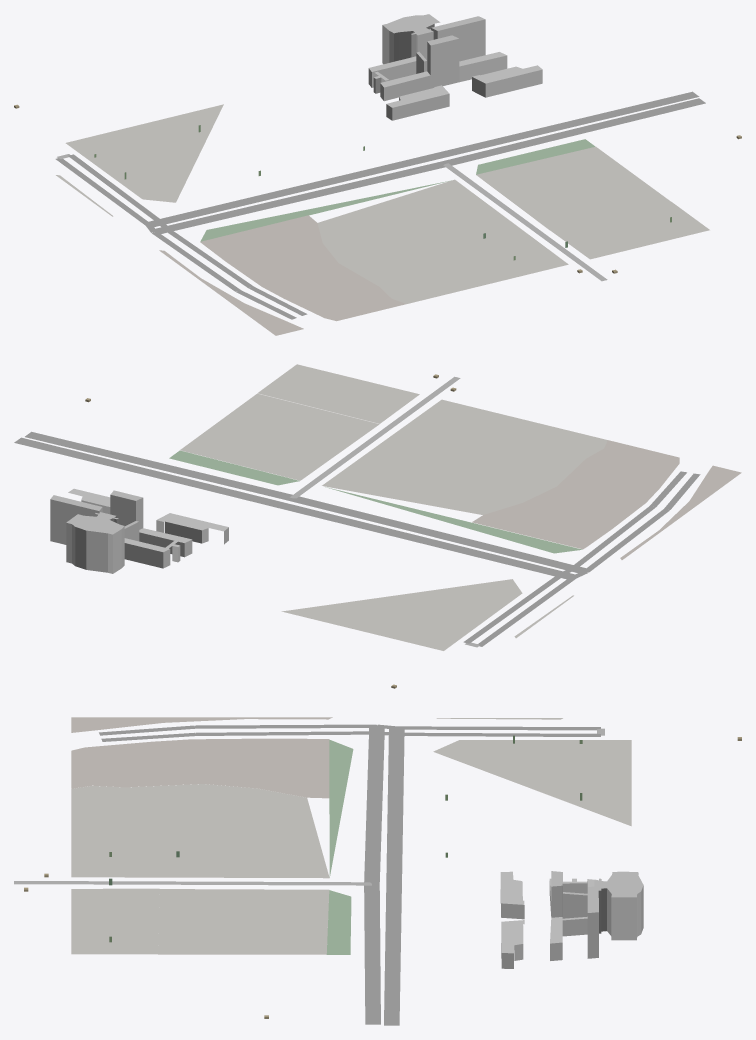
3 views of the same model, one above another, from view 1: azimuth 30°, elevation 25°; view 2: azimuth 150°, elevation 25°; view 3: azimuth 270°, elevation 25° (orthographic). The views are drawn at different scales.
Size of the model in its own units: 649 by 48.32 by 650.
